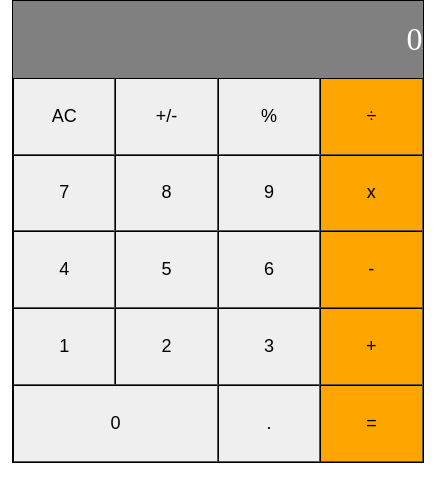
Scenario: Test If a user click a button on the Calculator  the display should Update › If a user click 6, x, 8 and then = button the Calculator Screen displays 48
Step 1. Click the button "6" → {"x": 269, "y": 270}, box [218,231,320,308]
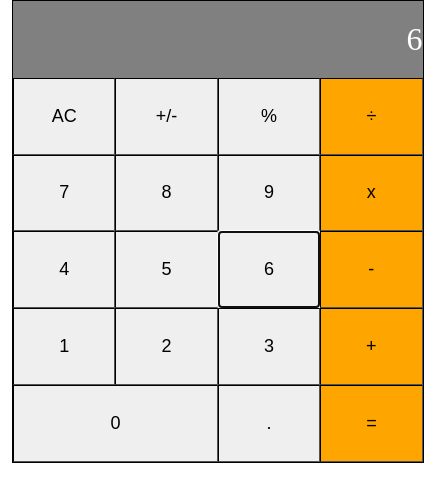
Step 2. Click the button "x" → {"x": 371, "y": 193}, box [320,155,423,231]
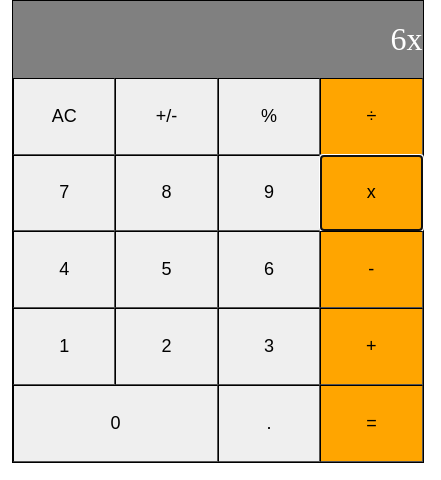
Step 3. Click the button "8" → {"x": 167, "y": 193}, box [115,155,218,231]
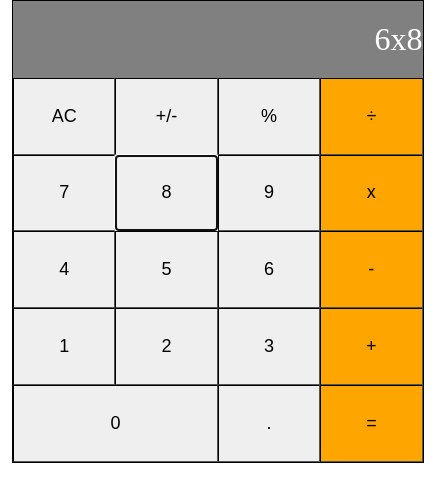
Step 4. Click the button "=" → {"x": 371, "y": 423}, box [320,385,423,462]
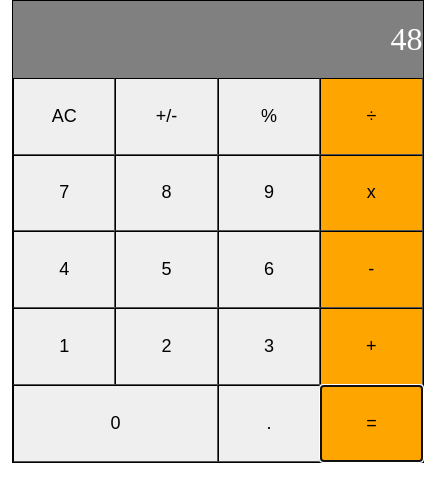
Expected: the text "48" is shown, [13,1,423,78]
